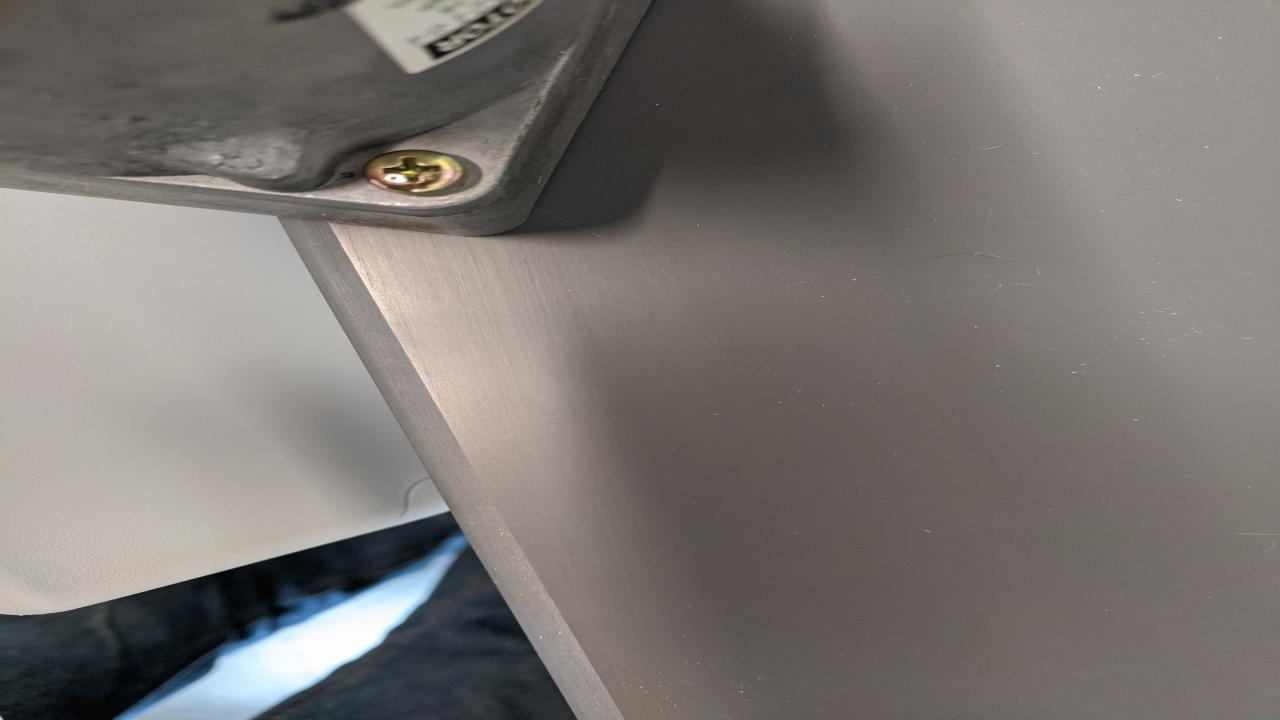CRS: (364, 148, 466, 194)
